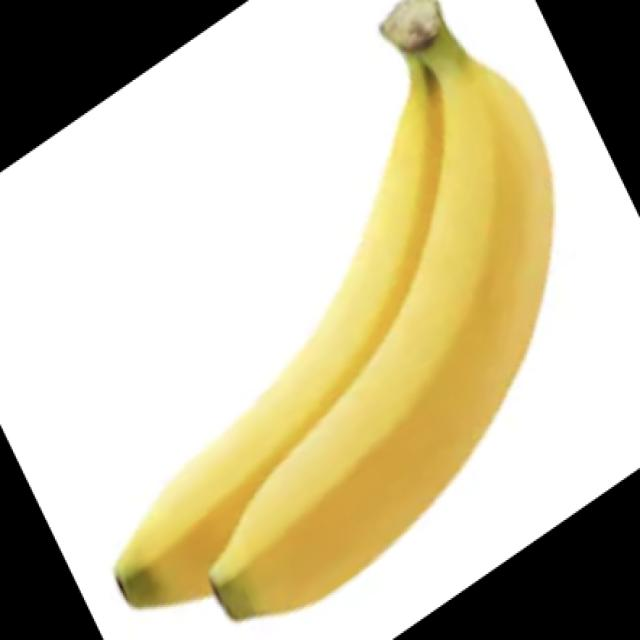banana: (128, 9, 578, 623)
